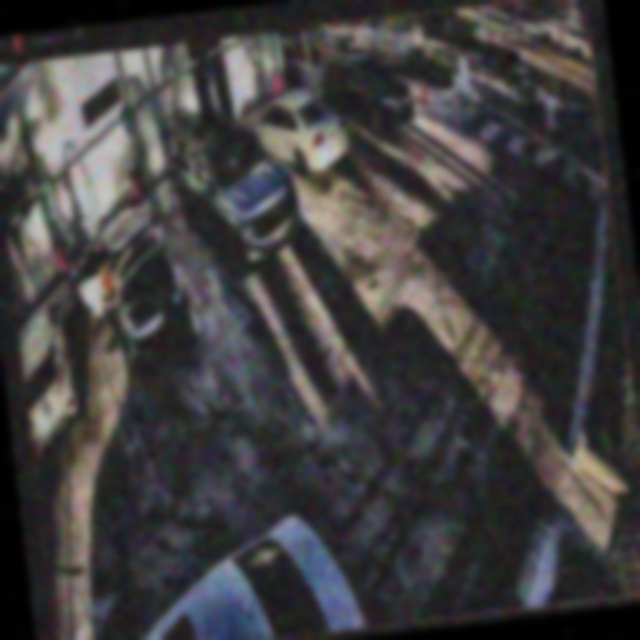Car: (163, 98, 305, 280), (75, 201, 192, 373), (246, 83, 350, 182)
